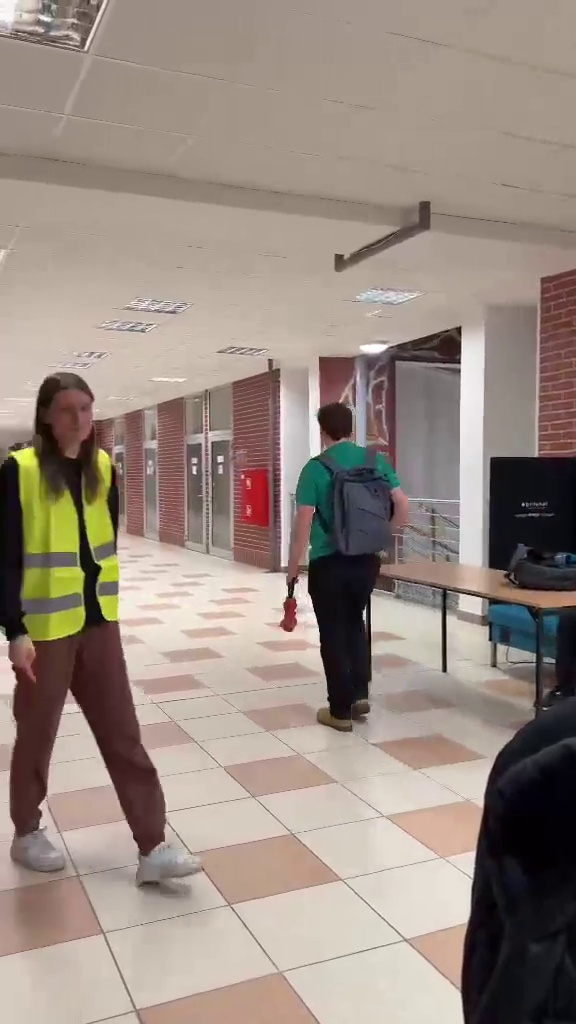no vest: (279, 404, 414, 737)
vest: (3, 367, 195, 884)
